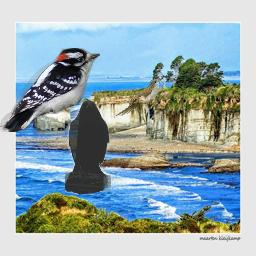Crow: (65, 100, 111, 195)
Cuckoo: (115, 78, 163, 116)
Woodpecker: (0, 48, 100, 132)
